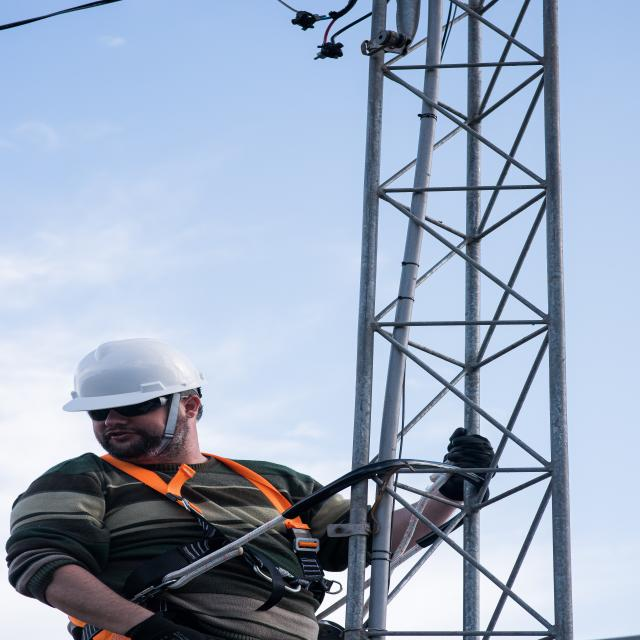capacete: (59, 334, 210, 414)
corda de vida: (59, 439, 356, 640)
luva: (427, 417, 500, 507)
